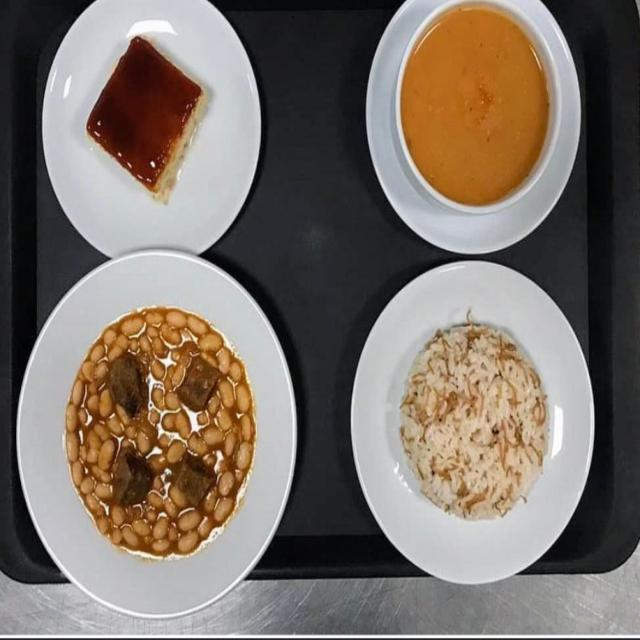ana_yemek: (15, 249, 293, 621), (350, 259, 592, 583), (42, 1, 258, 258)
corba: (392, 4, 558, 220)
